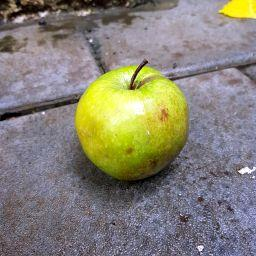apple: (65, 46, 203, 189)
